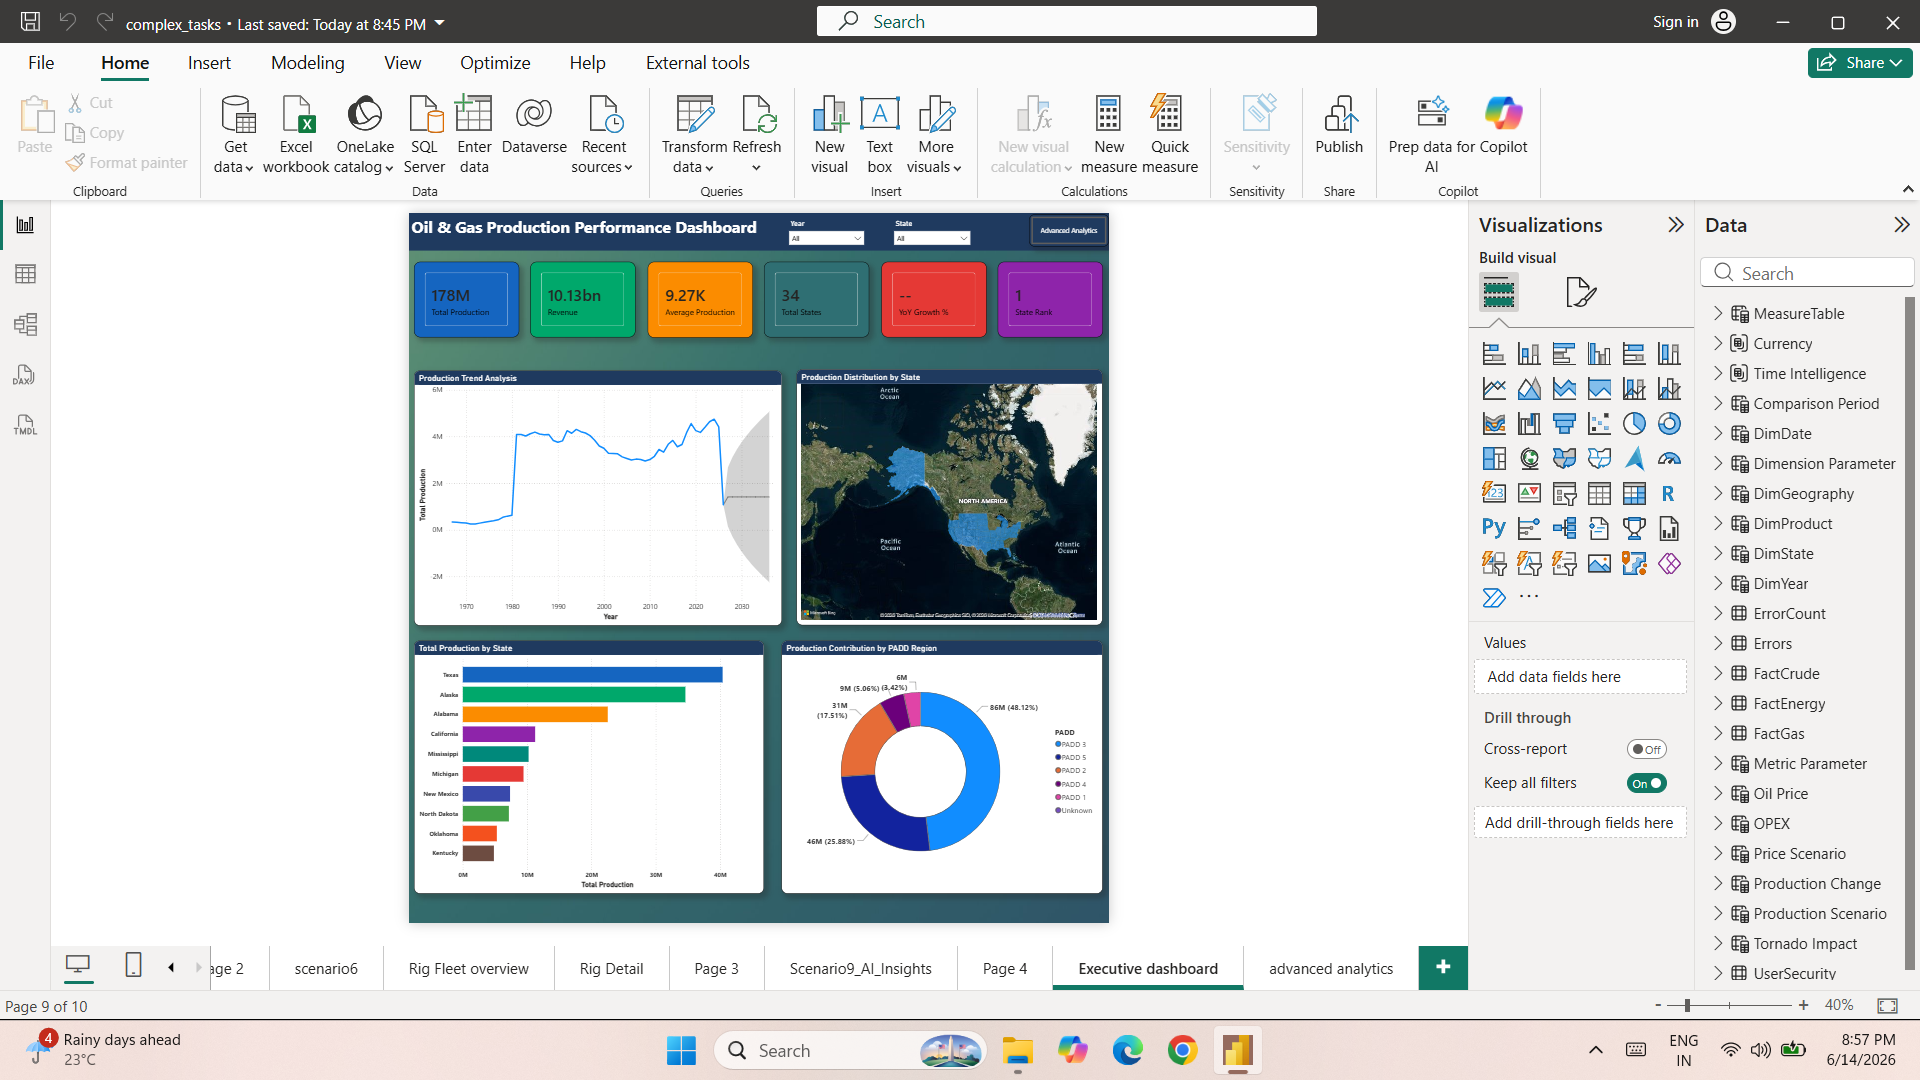

The page's visual inventory and layout, read from the dashboard file:
{"tool":"powerbi","page":{"name":"Executive dashboard","canvas":[1400,1420],"ordinal":0},"visuals":[{"type":"textbox","box":[0,0,1400,75],"z":0},{"type":"cardVisual","fields":{"Data":["MeasureTable.Total Production"]},"box":[9.8,97.3,210,151],"z":1000},{"type":"cardVisual","fields":{"Data":["MeasureTable.State Rank"]},"box":[1178.3,97.3,210,151],"z":2000},{"type":"cardVisual","fields":{"Data":["MeasureTable.Total States"]},"box":[710.9,97.3,210,151],"z":3000},{"type":"cardVisual","fields":{"Data":["MeasureTable.YoY Growth %"]},"box":[944.6,97.3,210,151],"z":4000},{"type":"cardVisual","fields":{"Data":["MeasureTable.Average Production"]},"box":[477.2,96.7,210,151.7],"z":5000},{"type":"cardVisual","fields":{"Data":["MeasureTable.Revenue"]},"box":[243.5,97.3,210,151],"z":6000},{"type":"lineChart","title":"Production Trend Analysis","fields":{"Category":["DimDate.Date.Variation.Date Hierarchy.Year","DimDate.Date.Variation.Date Hierarchy.Quarter","DimDate.Date.Variation.Date Hierarchy.Month","DimDate.Date.Variation.Date Hierarchy.Day"],"Y":["MeasureTable.Total Production"]},"box":[10,314,736,510],"z":7000},{"type":"filledMap","title":"Production Distribution by State","fields":{"Category":["DimState.State"]},"box":[776,312,612,512],"z":8000},{"type":"clusteredBarChart","fields":{"Category":["DimState.State"],"Y":["MeasureTable.Total Production"]},"box":[10,856,700,506],"z":9000},{"type":"donutChart","title":"Production Contribution by PADD Region","fields":{"Y":["MeasureTable.Total Production"],"Category":["DimGeography.PADD_Final"]},"box":[746,856,642,506],"z":10000},{"type":"actionButton","title":"Advanced Analytics →","box":[1240,3.3,160,65],"z":11000},{"type":"slicer","fields":{"Values":["DimYear.Year"]},"box":[751.2,7,169.8,58.1],"z":12000},{"type":"slicer","fields":{"Values":["DimState.State"]},"box":[960.5,7,172.1,58.1],"z":13000}]}

Visuals, with their boxes on the page's 1400x1420 design canvas (x1, y1, x2, y2). These are canvas units, not pixel positions in the 1920x1080 screenshot, which may show the page scaled, cropped or inside an application window:
textbox: (0, 0, 1400, 75)
cardVisual - MeasureTable.Total Production: (10, 97, 220, 248)
cardVisual - MeasureTable.State Rank: (1178, 97, 1388, 248)
cardVisual - MeasureTable.Total States: (711, 97, 921, 248)
cardVisual - MeasureTable.YoY Growth %: (945, 97, 1155, 248)
cardVisual - MeasureTable.Average Production: (477, 97, 687, 248)
cardVisual - MeasureTable.Revenue: (244, 97, 454, 248)
"Production Trend Analysis" lineChart: (10, 314, 746, 824)
"Production Distribution by State" filledMap: (776, 312, 1388, 824)
clusteredBarChart - DimState.State x MeasureTable.Total Production: (10, 856, 710, 1362)
"Production Contribution by PADD Region" donutChart: (746, 856, 1388, 1362)
"Advanced Analytics →" actionButton: (1240, 3, 1400, 68)
slicer - DimYear.Year: (751, 7, 921, 65)
slicer - DimState.State: (960, 7, 1133, 65)
